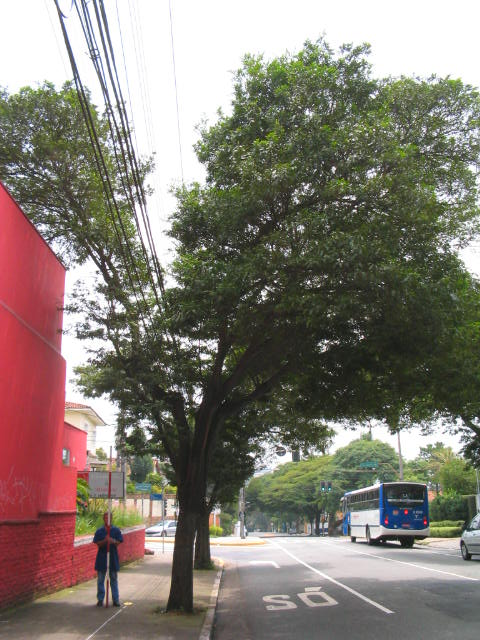crown: (3, 34, 477, 441)
stem: (160, 455, 199, 614)
stick: (100, 444, 115, 608)
tree: (2, 33, 477, 616)
